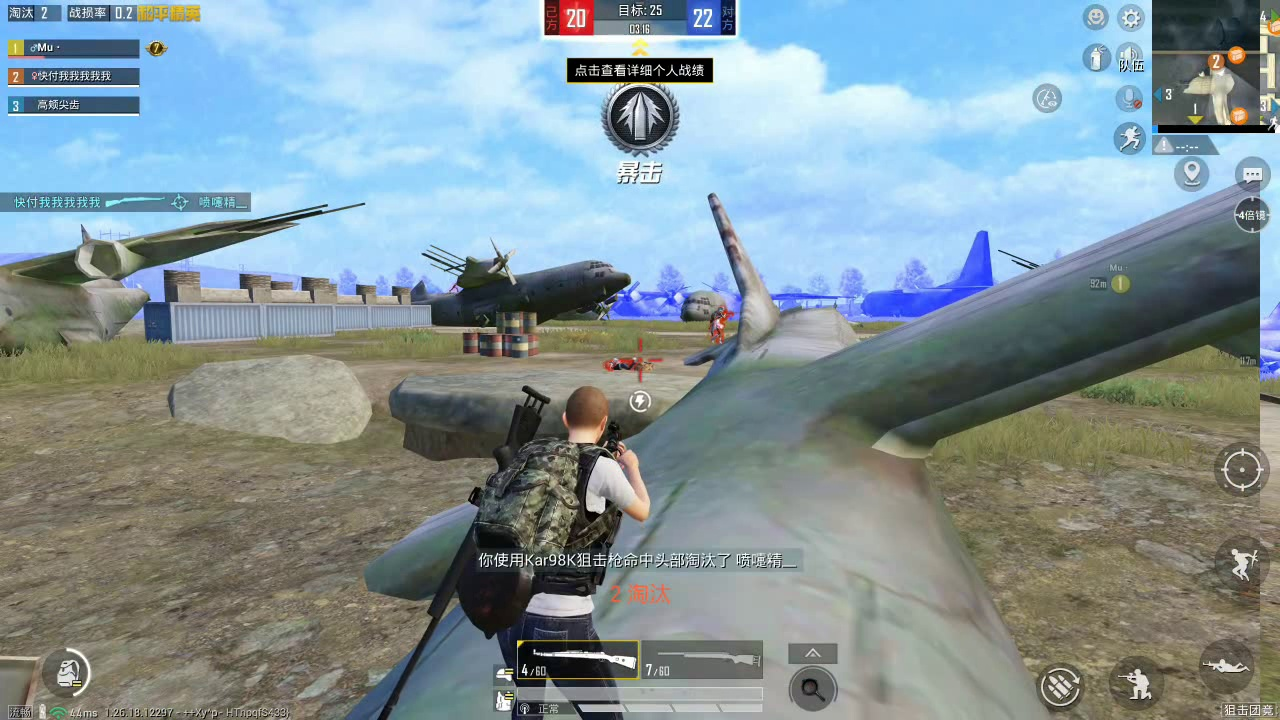enemy: (706, 299, 729, 342), (603, 351, 652, 370)
